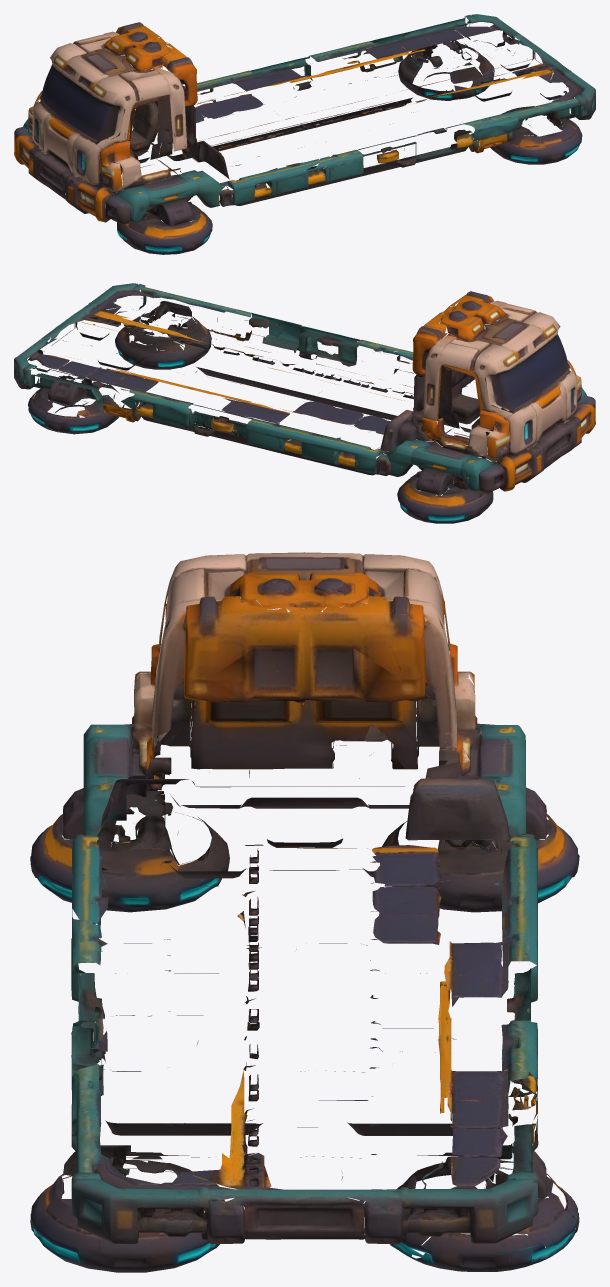
Rendered from cargo_flatbed_empty.glb.
The picture shows the model from 3 angles, top to bottom: view 1: azimuth 30°, elevation 25°; view 2: azimuth 150°, elevation 25°; view 3: azimuth 270°, elevation 25°; orthographic projection. The views are drawn at different scales.
Parts seen in each view (by area): view 1: tripo_part_5, tripo_part_37, tripo_part_29, tripo_part_1, tripo_part_3, tripo_part_12, tripo_part_18, tripo_part_19, tripo_part_14, tripo_part_45, tripo_part_9, tripo_part_54 (+27 smaller); view 2: tripo_part_5, tripo_part_30, tripo_part_37, tripo_part_20, tripo_part_2, tripo_part_3, tripo_part_12, tripo_part_19, tripo_part_32, tripo_part_9, tripo_part_25, tripo_part_35 (+35 smaller); view 3: tripo_part_9, tripo_part_5, tripo_part_33, tripo_part_1, tripo_part_14, tripo_part_3, tripo_part_2, tripo_part_31, tripo_part_26, tripo_part_30, tripo_part_66, tripo_part_20 (+32 smaller).
Boxes of the visible parts, x1,y1,x2,y2 form: tripo_part_5: (28, 31, 187, 193); tripo_part_37: (39, 64, 124, 143); tripo_part_29: (105, 170, 225, 224); tripo_part_1: (117, 201, 212, 254); tripo_part_3: (490, 118, 582, 164); tripo_part_12: (398, 41, 494, 100); tripo_part_18: (220, 159, 325, 205); tripo_part_19: (104, 30, 172, 71); tripo_part_14: (515, 35, 595, 119); tripo_part_45: (463, 98, 578, 144); tripo_part_9: (116, 22, 197, 107); tripo_part_54: (100, 140, 172, 189); tripo_part_5: (423, 300, 581, 461); tripo_part_30: (384, 403, 510, 491); tripo_part_37: (486, 334, 570, 412); tripo_part_20: (241, 416, 387, 474); tripo_part_2: (397, 471, 493, 523); tripo_part_3: (115, 311, 211, 369); tripo_part_12: (29, 375, 124, 434); tripo_part_19: (440, 299, 505, 340); tripo_part_32: (231, 320, 359, 366); tripo_part_9: (412, 291, 494, 377); tripo_part_25: (121, 388, 198, 428); tripo_part_35: (496, 443, 544, 491); tripo_part_9: (184, 596, 430, 704); tripo_part_5: (134, 552, 474, 750); tripo_part_33: (191, 700, 416, 769); tripo_part_1: (30, 802, 229, 912); tripo_part_14: (71, 1157, 402, 1243); tripo_part_3: (30, 1160, 225, 1272); tripo_part_2: (382, 814, 579, 912); tripo_part_31: (372, 1172, 538, 1243); tripo_part_26: (405, 762, 508, 840); tripo_part_30: (448, 644, 525, 836); tripo_part_66: (226, 1196, 366, 1239); tripo_part_20: (494, 832, 537, 1002).
Size of the model in its own units: 0.9999 by 0.3102 by 0.4752.
Materials: 119 (119 with a texture image).
